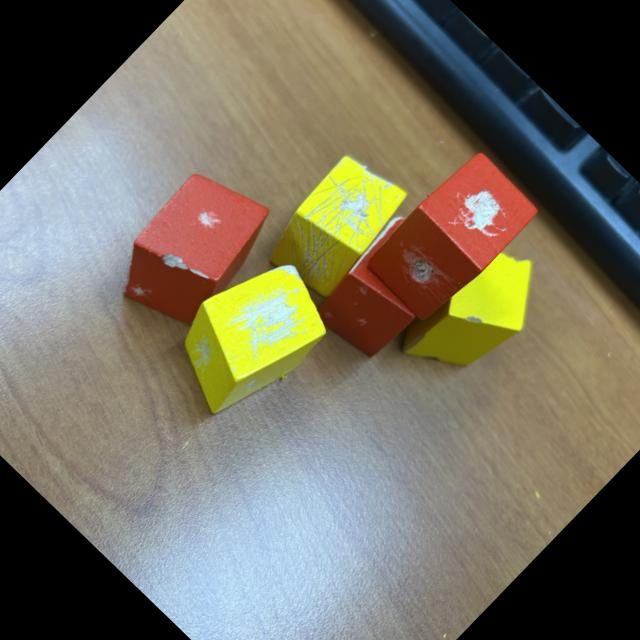broken: (150, 236, 348, 435), (97, 154, 287, 345), (361, 145, 543, 329), (388, 227, 562, 403), (255, 142, 420, 308), (306, 210, 462, 368)
